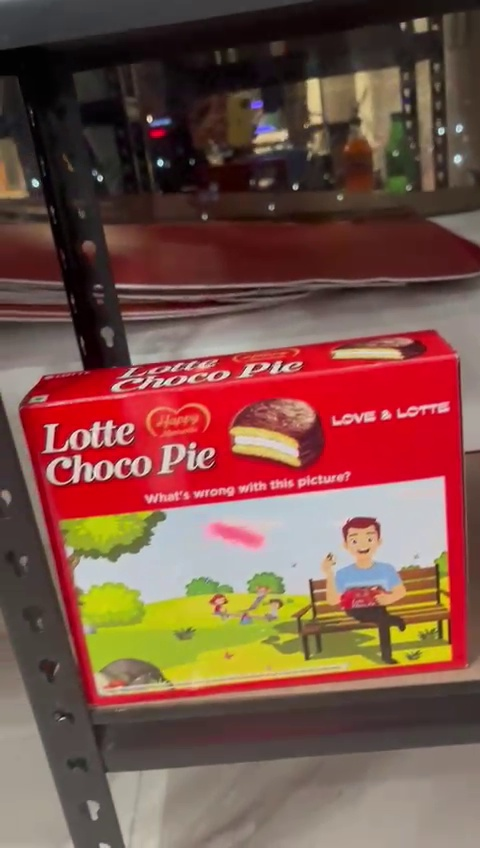Lotte Chocopie: (16, 364, 480, 681)
